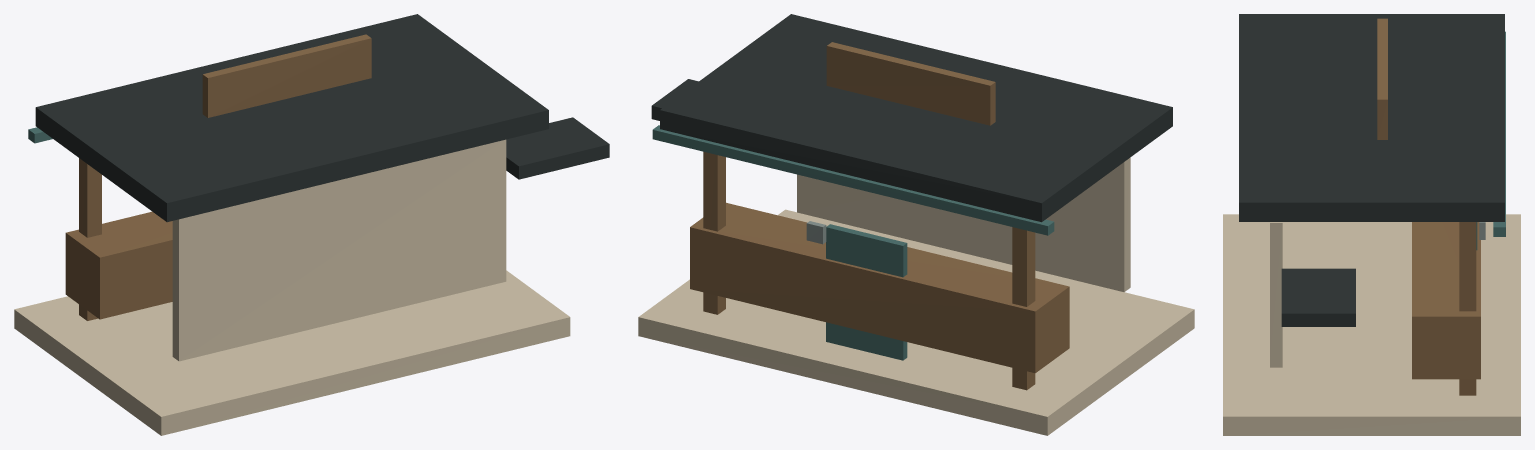
File: Farm-Shop.glb
3 views of the same model, side by side, from view 1: azimuth 30°, elevation 25°; view 2: azimuth 150°, elevation 25°; view 3: azimuth 270°, elevation 25° (orthographic).
Parts seen in each view (by area): view 1: farm-shop-static-farm-shop-cream, farm-shop-static-farm-shop-iron, farm-shop-static-farm-shop-timber; view 2: farm-shop-static-farm-shop-iron, farm-shop-static-farm-shop-cream, farm-shop-static-farm-shop-timber, farm-shop-static-farm-shop-teal; view 3: farm-shop-static-farm-shop-iron, farm-shop-static-farm-shop-cream, farm-shop-static-farm-shop-timber, farm-shop-static-farm-shop-teal.
Boxes of the visible parts, x1,y1,x2,y2 form: farm-shop-static-farm-shop-cream: (14,139,570,435); farm-shop-static-farm-shop-iron: (35,14,609,222); farm-shop-static-farm-shop-timber: (65,34,371,320); farm-shop-static-farm-shop-iron: (651,14,1172,222); farm-shop-static-farm-shop-cream: (638,157,1194,435); farm-shop-static-farm-shop-timber: (690,42,1069,390); farm-shop-static-farm-shop-teal: (652,125,1054,360); farm-shop-static-farm-shop-iron: (1239,14,1504,326); farm-shop-static-farm-shop-cream: (1223,214,1520,435); farm-shop-static-farm-shop-timber: (1377,18,1480,395); farm-shop-static-farm-shop-teal: (1476,31,1505,250).
Size of the model in its own units: 5.25 by 2.86 by 2.8.
